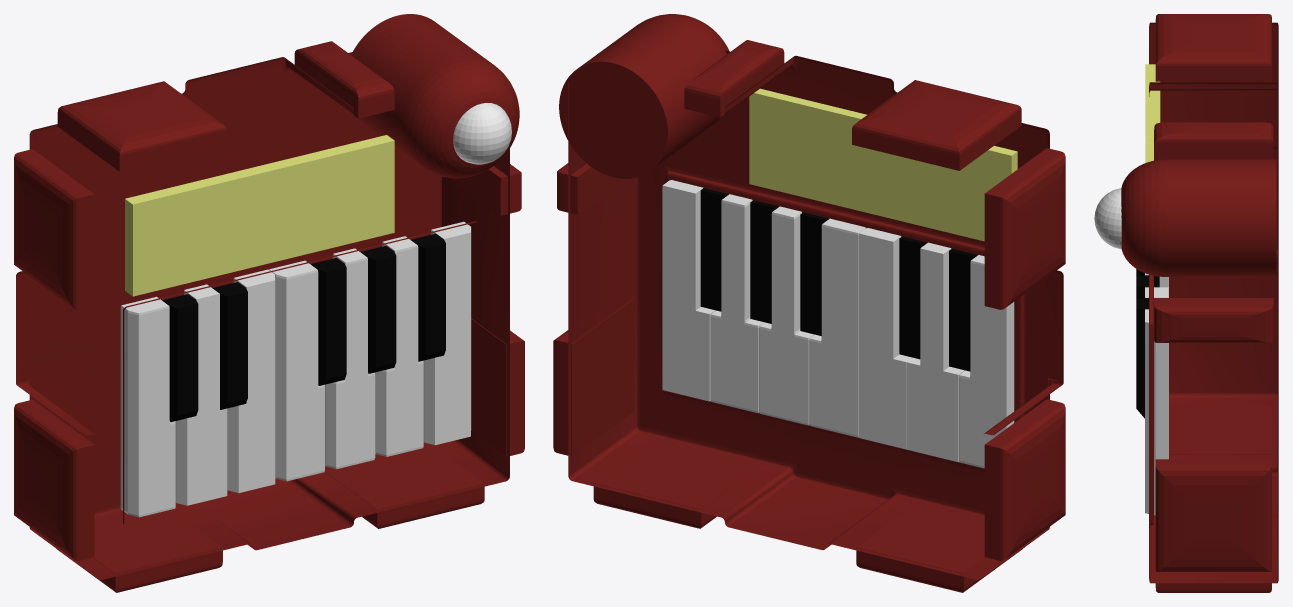
The model's file is cruel_piano_keys_split.fbx.
3 views of the same model, side by side, from view 1: azimuth 30°, elevation 25°; view 2: azimuth 150°, elevation 25°; view 3: azimuth 270°, elevation 25° (orthographic). The views are drawn at different scales.
Visible parts, largest first — view 1: Cube.013, Cube.001, Cube.002, Cube.003, Cube.004, Cube.007, Cube.006, Cube.005, Cube.010, Cube.009, Cube.011, Cube.008 (+2 smaller); view 2: Cube.013, Cube.003, Cube.004, Cube.002, Cube.007, Cube.006, Cube.005, Cube.001, Cube.009, Cube.011, Cube.012, Cube.010 (+1 smaller); view 3: Cube.013, Cube.004, Sphere, Cube.012, Cube.011.
Part boxes in pixels (left/top/right/bottom): Cube.013: left=14, top=14, right=524, bottom=592; Cube.001: left=120, top=296, right=175, bottom=517; Cube.002: left=269, top=260, right=324, bottom=481; Cube.003: left=227, top=269, right=275, bottom=493; Cube.004: left=423, top=221, right=471, bottom=445; Cube.007: left=175, top=284, right=227, bottom=505; Cube.006: left=325, top=248, right=375, bottom=469; Cube.005: left=375, top=236, right=423, bottom=456; Cube.010: left=163, top=294, right=198, bottom=421; Cube.009: left=311, top=258, right=346, bottom=385; Cube.011: left=361, top=245, right=396, bottom=373; Cube.008: left=212, top=282, right=247, bottom=409; Cube.013: left=553, top=14, right=1065, bottom=592; Cube.003: left=859, top=228, right=912, bottom=449; Cube.004: left=662, top=180, right=715, bottom=401; Cube.002: left=809, top=218, right=865, bottom=437; Cube.007: left=907, top=242, right=965, bottom=462; Cube.006: left=759, top=206, right=814, bottom=425; Cube.005: left=710, top=194, right=764, bottom=413; Cube.001: left=959, top=255, right=1014, bottom=468; Cube.009: left=800, top=212, right=828, bottom=335; Cube.011: left=750, top=200, right=778, bottom=323; Cube.012: left=700, top=188, right=728, bottom=311; Cube.010: left=949, top=248, right=977, bottom=371; Cube.013: left=1121, top=14, right=1278, bottom=592; Cube.004: left=1145, top=309, right=1168, bottom=515; Sphere: left=1094, top=188, right=1121, bottom=249; Cube.012: left=1136, top=298, right=1148, bottom=418; Cube.011: left=1136, top=275, right=1159, bottom=299.
Bounding box in the file's own units: 107 × 101 × 39.94.
